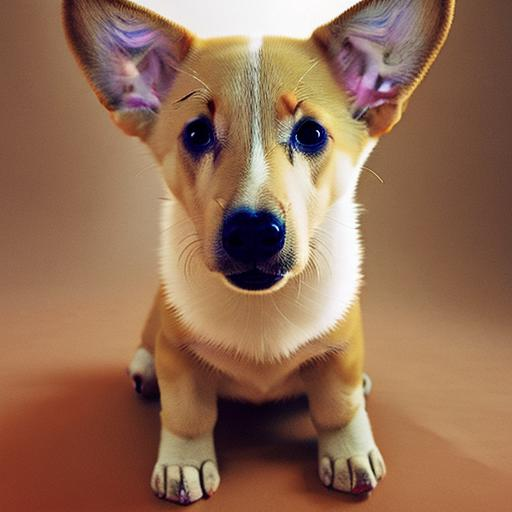eye: (289, 112, 335, 159), (182, 114, 224, 160)
